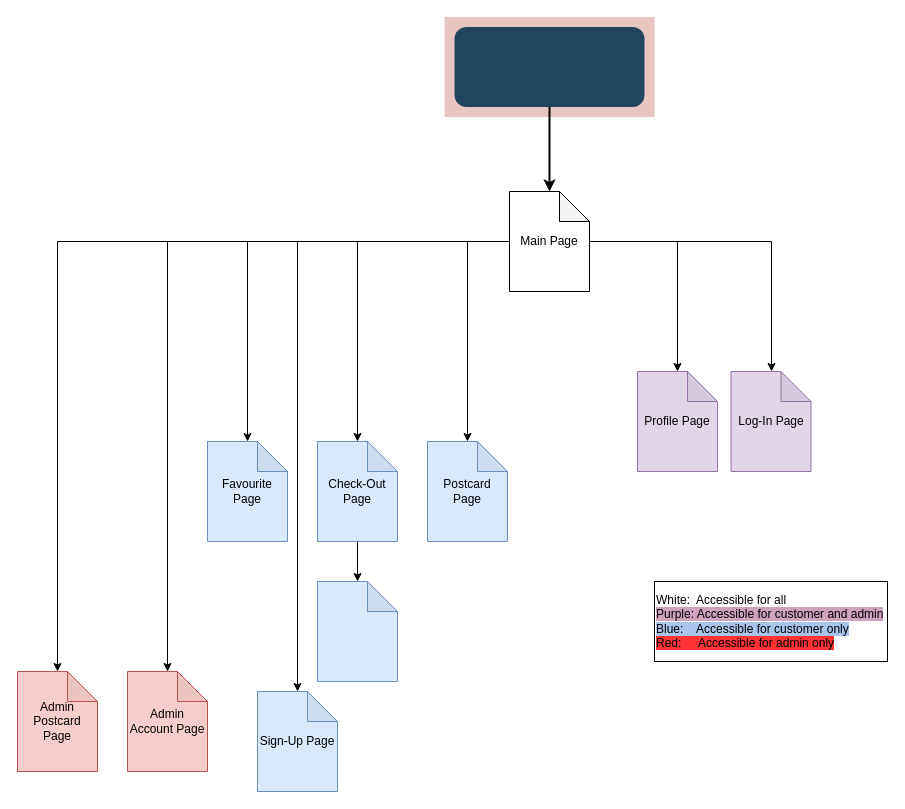
This 905x809 diagram has some shape labels left out. The centre of each missing label's shape, as x and y in pixels:
"Root.HomingPigeon" belongs at point 549,66.
"Success Page" belongs at point 357,631.
